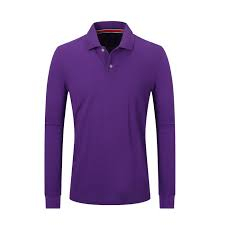S_polo shirt: (27, 22, 200, 221)
